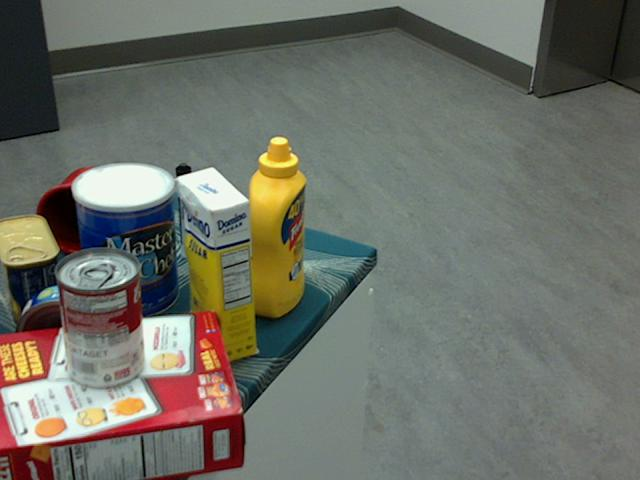cracker_box: (0, 312, 244, 479)
large_marker: (175, 162, 195, 257)
master_chef_can: (70, 162, 177, 321)
mug: (34, 166, 125, 256)
mustard_bottle: (245, 135, 306, 317)
potted_meat_can: (0, 212, 64, 327)
sugar_box: (177, 165, 255, 364)
tomato_soup_can: (54, 248, 143, 389)
tuna_fish_can: (15, 284, 110, 375)
